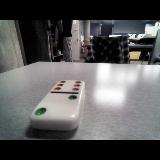domino: (30, 80, 84, 130)
